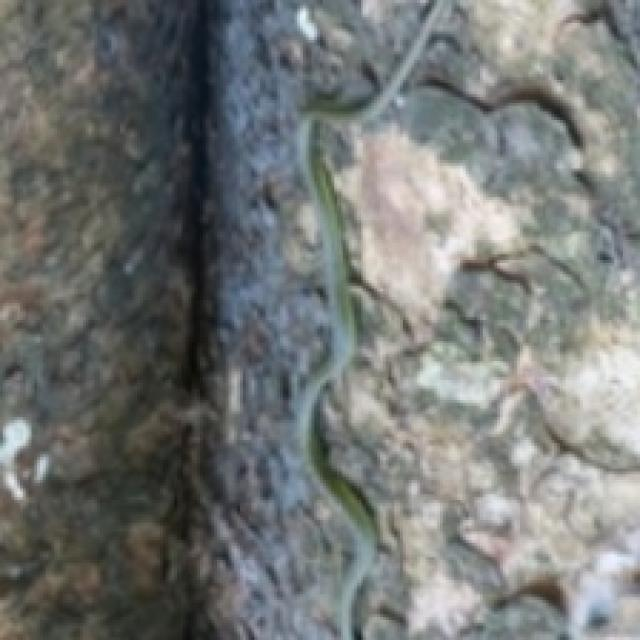paradise tree snake: (314, 0, 637, 637), (306, 0, 426, 103)
